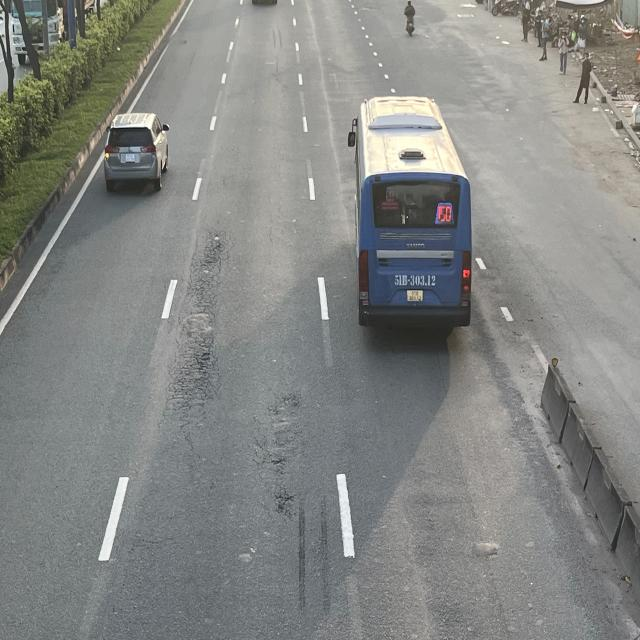car: (103, 113, 171, 192)
coach: (348, 94, 473, 330)
